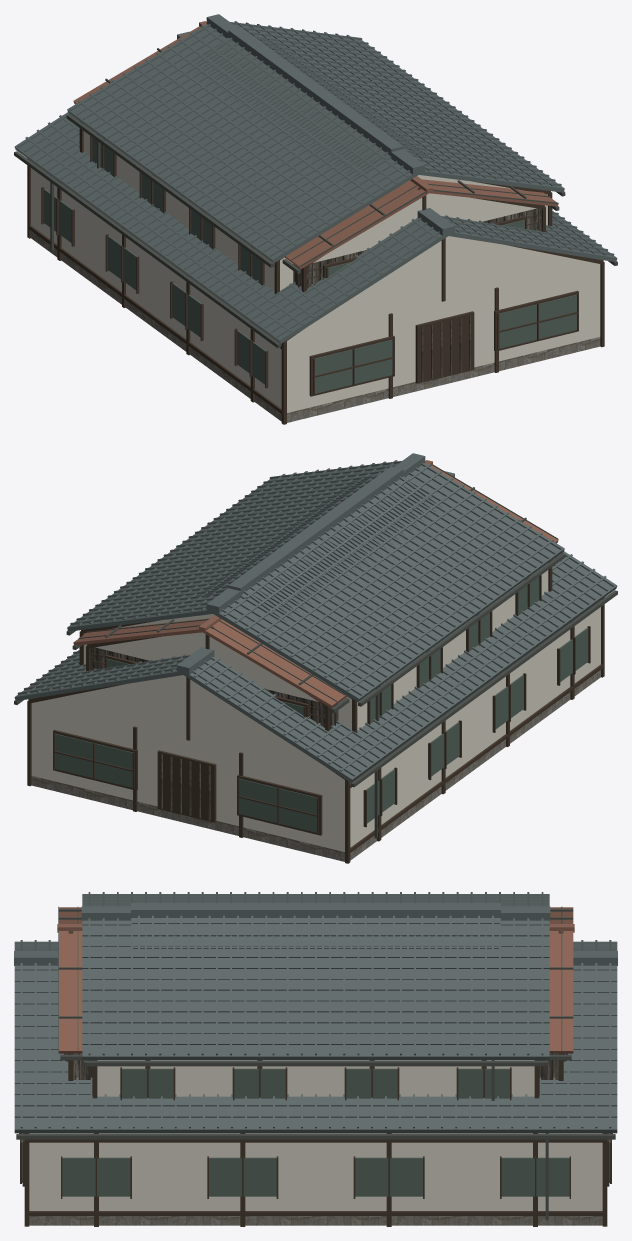
The model's file is act1-north.glb.
3 views of the same model, one above another, from view 1: azimuth 30°, elevation 25°; view 2: azimuth 150°, elevation 25°; view 3: azimuth 270°, elevation 25° (orthographic). The views are drawn at different scales.
Visible parts, largest first — view 1: 236248660-Weathered grey roof tile.027, 236248677-North warm lime gables.001, 236248677-Weathered grey roof tile.027, 236248677-Dark structural timber.027, 586010788-Weathered grey roof tile.027, 236248677-Recessed muted glazing.022, 236248677-Foundation granite.027, 236248687-North standing seam oxidized metal.001, 236248687-North warm lime gables.001, 236248660-North warm lime gables.001, 236248677-North dark gutter metal.001, 236248660-Recessed muted glazing.022 (+6 smaller); view 2: 236248660-Weathered grey roof tile.027, 236248677-North warm lime gables.001, 236248677-Weathered grey roof tile.027, 236248677-Dark structural timber.027, 586010788-Weathered grey roof tile.027, 236248677-Recessed muted glazing.022, 236248677-Foundation granite.027, 236248687-North standing seam oxidized metal.001, 236248687-North warm lime gables.001, 236248660-North warm lime gables.001, 236248677-North dark gutter metal.001, 236248660-Recessed muted glazing.022 (+6 smaller); view 3: 236248660-Weathered grey roof tile.027, 236248677-Weathered grey roof tile.027, 236248677-North warm lime gables.001, 586010788-Weathered grey roof tile.027, 236248677-Recessed muted glazing.022, 236248677-Dark structural timber.027, 236248660-North warm lime gables.001, 236248687-North standing seam oxidized metal.001, 236248660-Recessed muted glazing.022, 236248677-Foundation granite.027, 236248677-North dark gutter metal.001, 236248660-North dark gutter metal.001 (+3 smaller).
Part boxes in pixels (<box>): 236248660-Weathered grey roof tile.027: <box>67,14,564,262</box>; 236248677-North warm lime gables.001: <box>31,168,600,412</box>; 236248677-Weathered grey roof tile.027: <box>14,31,617,343</box>; 236248677-Dark structural timber.027: <box>27,158,604,424</box>; 586010788-Weathered grey roof tile.027: <box>187,27,437,183</box>; 236248677-Recessed muted glazing.022: <box>43,188,576,393</box>; 236248677-Foundation granite.027: <box>31,231,600,422</box>; 236248687-North standing seam oxidized metal.001: <box>73,21,558,269</box>; 236248687-North warm lime gables.001: <box>313,193,536,262</box>; 236248660-North warm lime gables.001: <box>83,124,547,291</box>; 236248677-North dark gutter metal.001: <box>14,151,617,348</box>; 236248660-Recessed muted glazing.022: <box>92,138,261,284</box>; 236248660-Weathered grey roof tile.027: <box>67,453,564,701</box>; 236248677-North warm lime gables.001: <box>31,607,600,851</box>; 236248677-Weathered grey roof tile.027: <box>14,471,617,782</box>; 236248677-Dark structural timber.027: <box>27,597,604,863</box>; 586010788-Weathered grey roof tile.027: <box>194,466,444,622</box>; 236248677-Recessed muted glazing.022: <box>55,627,588,832</box>; 236248677-Foundation granite.027: <box>31,670,600,861</box>; 236248687-North standing seam oxidized metal.001: <box>73,460,558,708</box>; 236248687-North warm lime gables.001: <box>95,632,318,701</box>; 236248660-North warm lime gables.001: <box>84,563,548,730</box>; 236248677-North dark gutter metal.001: <box>14,590,617,838</box>; 236248660-Recessed muted glazing.022: <box>370,577,539,723</box>; 236248660-Weathered grey roof tile.027: <box>81,892,550,1059</box>; 236248677-Weathered grey roof tile.027: <box>14,940,617,1133</box>; 236248677-North warm lime gables.001: <box>29,1133,602,1210</box>; 586010788-Weathered grey roof tile.027: <box>131,903,500,963</box>; 236248677-Recessed muted glazing.022: <box>21,1133,610,1196</box>; 236248677-Dark structural timber.027: <box>20,1133,611,1226</box>; 236248660-North warm lime gables.001: <box>97,1060,534,1096</box>; 236248687-North standing seam oxidized metal.001: <box>57,907,574,1053</box>; 236248660-Recessed muted glazing.022: <box>122,1068,509,1098</box>; 236248677-Foundation granite.027: <box>29,1216,602,1225</box>; 236248677-North dark gutter metal.001: <box>16,1133,615,1220</box>; 236248660-North dark gutter metal.001: <box>84,1060,547,1100</box>.
Bounding box in the file's own units: 12.69 × 7.25 × 17.17.
8 materials, 2 textured.
